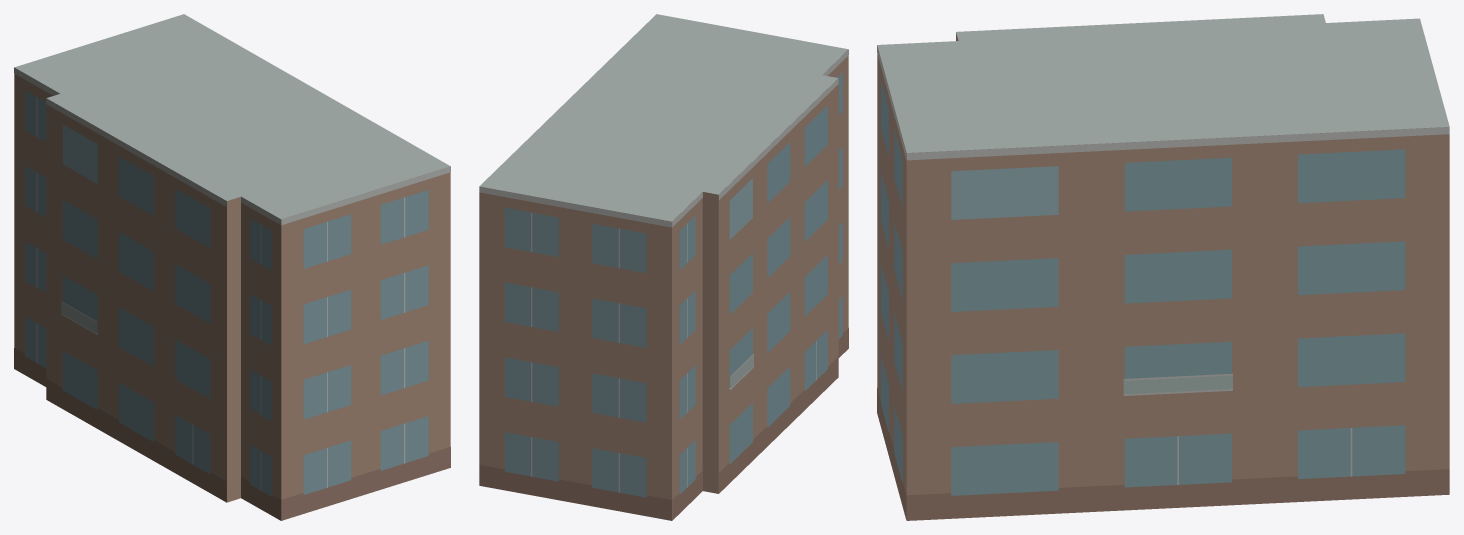
File: survey-upis-32980690.glb
3 renders of one model, left to right at view 1: azimuth 30°, elevation 25°; view 2: azimuth 150°, elevation 25°; view 3: azimuth 270°, elevation 25°, orthographic. The views are drawn at different scales.
Visible parts, largest first — view 1: survey-upis-32980690.tmp; view 2: survey-upis-32980690.tmp; view 3: survey-upis-32980690.tmp.
Boxes of the visible parts, bbox=[...] form: survey-upis-32980690.tmp: bbox=[14, 14, 450, 520]; survey-upis-32980690.tmp: bbox=[479, 14, 848, 520]; survey-upis-32980690.tmp: bbox=[877, 14, 1449, 520].
Bounding box in the file's own units: 9.9 × 12.2 × 17.22.
